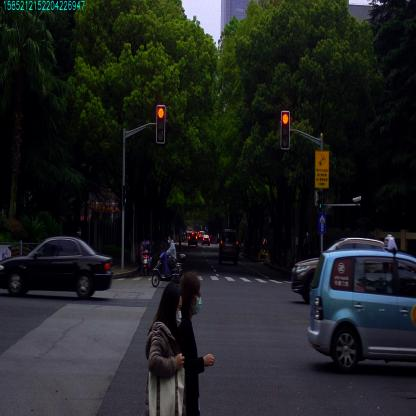traffic-light: (156, 104, 165, 142), (281, 111, 289, 149)
